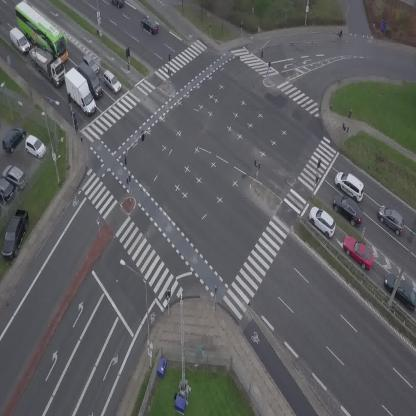bicycle: (72, 115, 80, 133), (336, 29, 345, 41)
car: (338, 230, 380, 274), (328, 189, 368, 229), (330, 167, 370, 203), (303, 202, 341, 239), (373, 201, 411, 236), (98, 68, 125, 96), (139, 14, 162, 37), (80, 52, 103, 74), (110, 0, 124, 8)
lorry: (18, 35, 74, 89), (59, 64, 99, 119), (74, 58, 106, 101), (5, 25, 35, 55)
